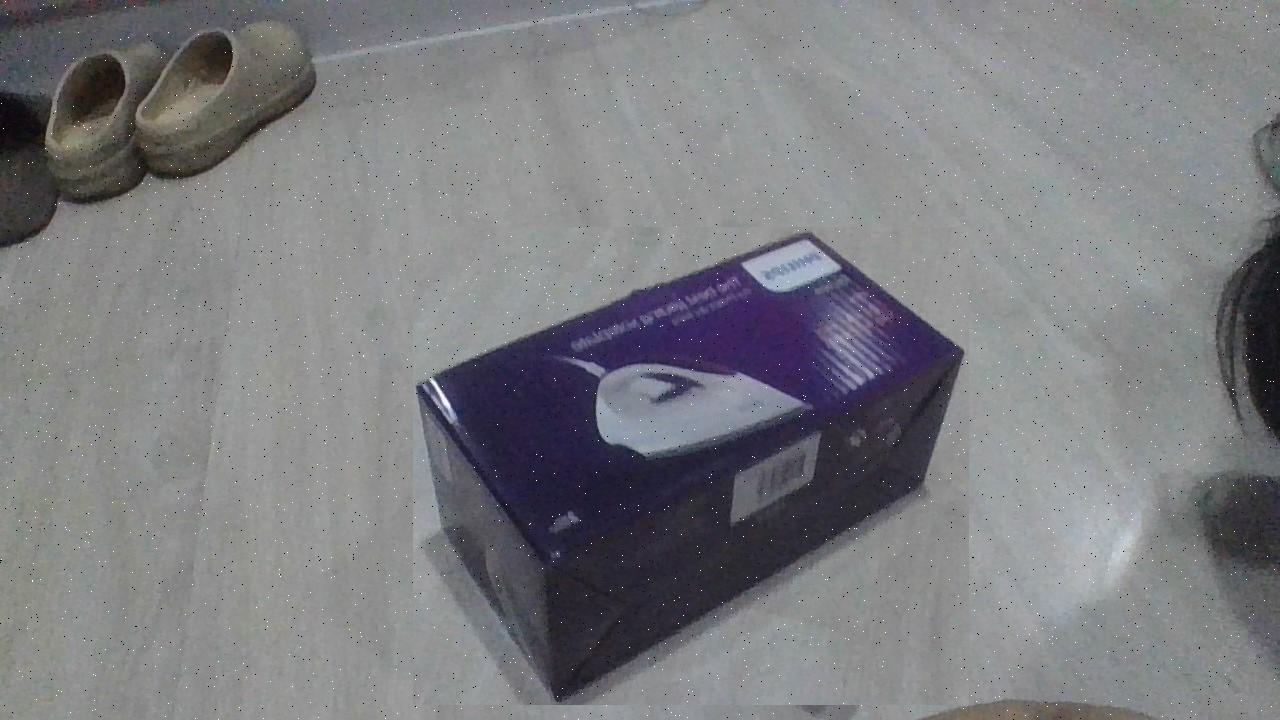IRON: (413, 227, 969, 705)
